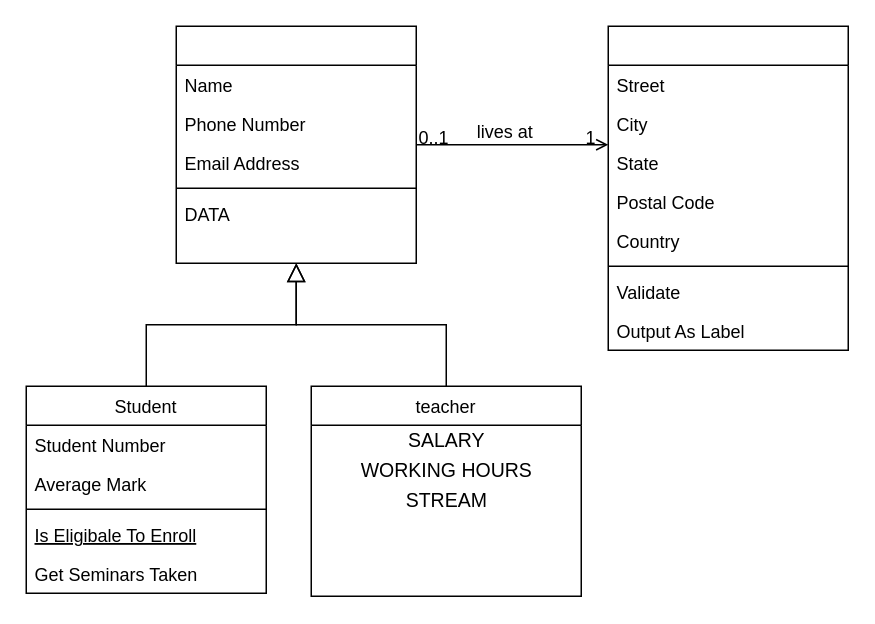
Some shapes in this 875 by 624 pixel diagram are drawn without their labels. The box of each missing label's shape, as (x1, y1, x2, y2) in pixels:
Address: (607, 25, 848, 350)
Person: (175, 25, 416, 263)
